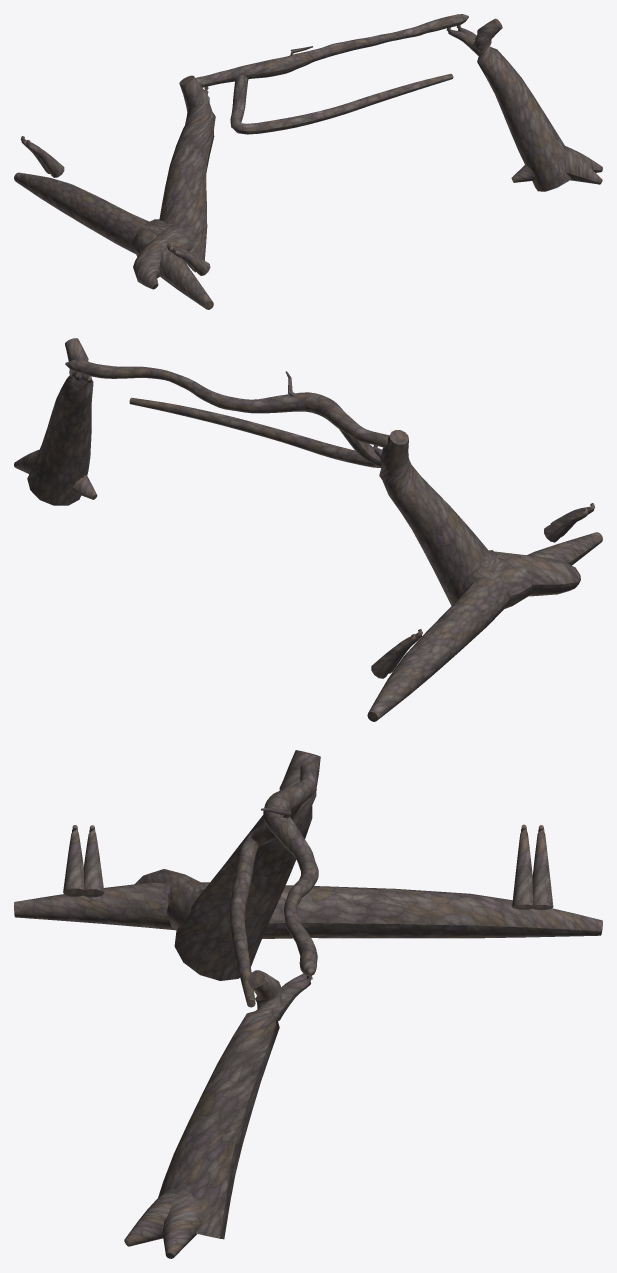
Rendered from prologue-branch-v1.glb.
3 renders of one model, top to bottom at view 1: azimuth 30°, elevation 25°; view 2: azimuth 150°, elevation 25°; view 3: azimuth 270°, elevation 25°, orthographic. The views are drawn at different scales.
Parts seen in each view (by area): view 1: SIDE_RootSupport_Left, SIDE_RootSupport_Right, PrologueBranch_Body; view 2: SIDE_RootSupport_Left, PrologueBranch_Body, SIDE_RootSupport_Right; view 3: SIDE_RootSupport_Left, SIDE_RootSupport_Right, PrologueBranch_Body.
Boxes of the visible parts, x1,y1,x2,y2 form: SIDE_RootSupport_Left: [14, 75, 215, 309]; SIDE_RootSupport_Right: [446, 18, 602, 191]; PrologueBranch_Body: [195, 14, 468, 134]; SIDE_RootSupport_Left: [367, 430, 602, 721]; PrologueBranch_Body: [65, 359, 389, 467]; SIDE_RootSupport_Right: [14, 338, 97, 505]; SIDE_RootSupport_Left: [14, 750, 602, 980]; SIDE_RootSupport_Right: [124, 970, 312, 1258]; PrologueBranch_Body: [230, 761, 318, 1007].
Bounding box in the file's own units: 4.85 × 1.74 × 3.41.
1 material, 1 textured.
